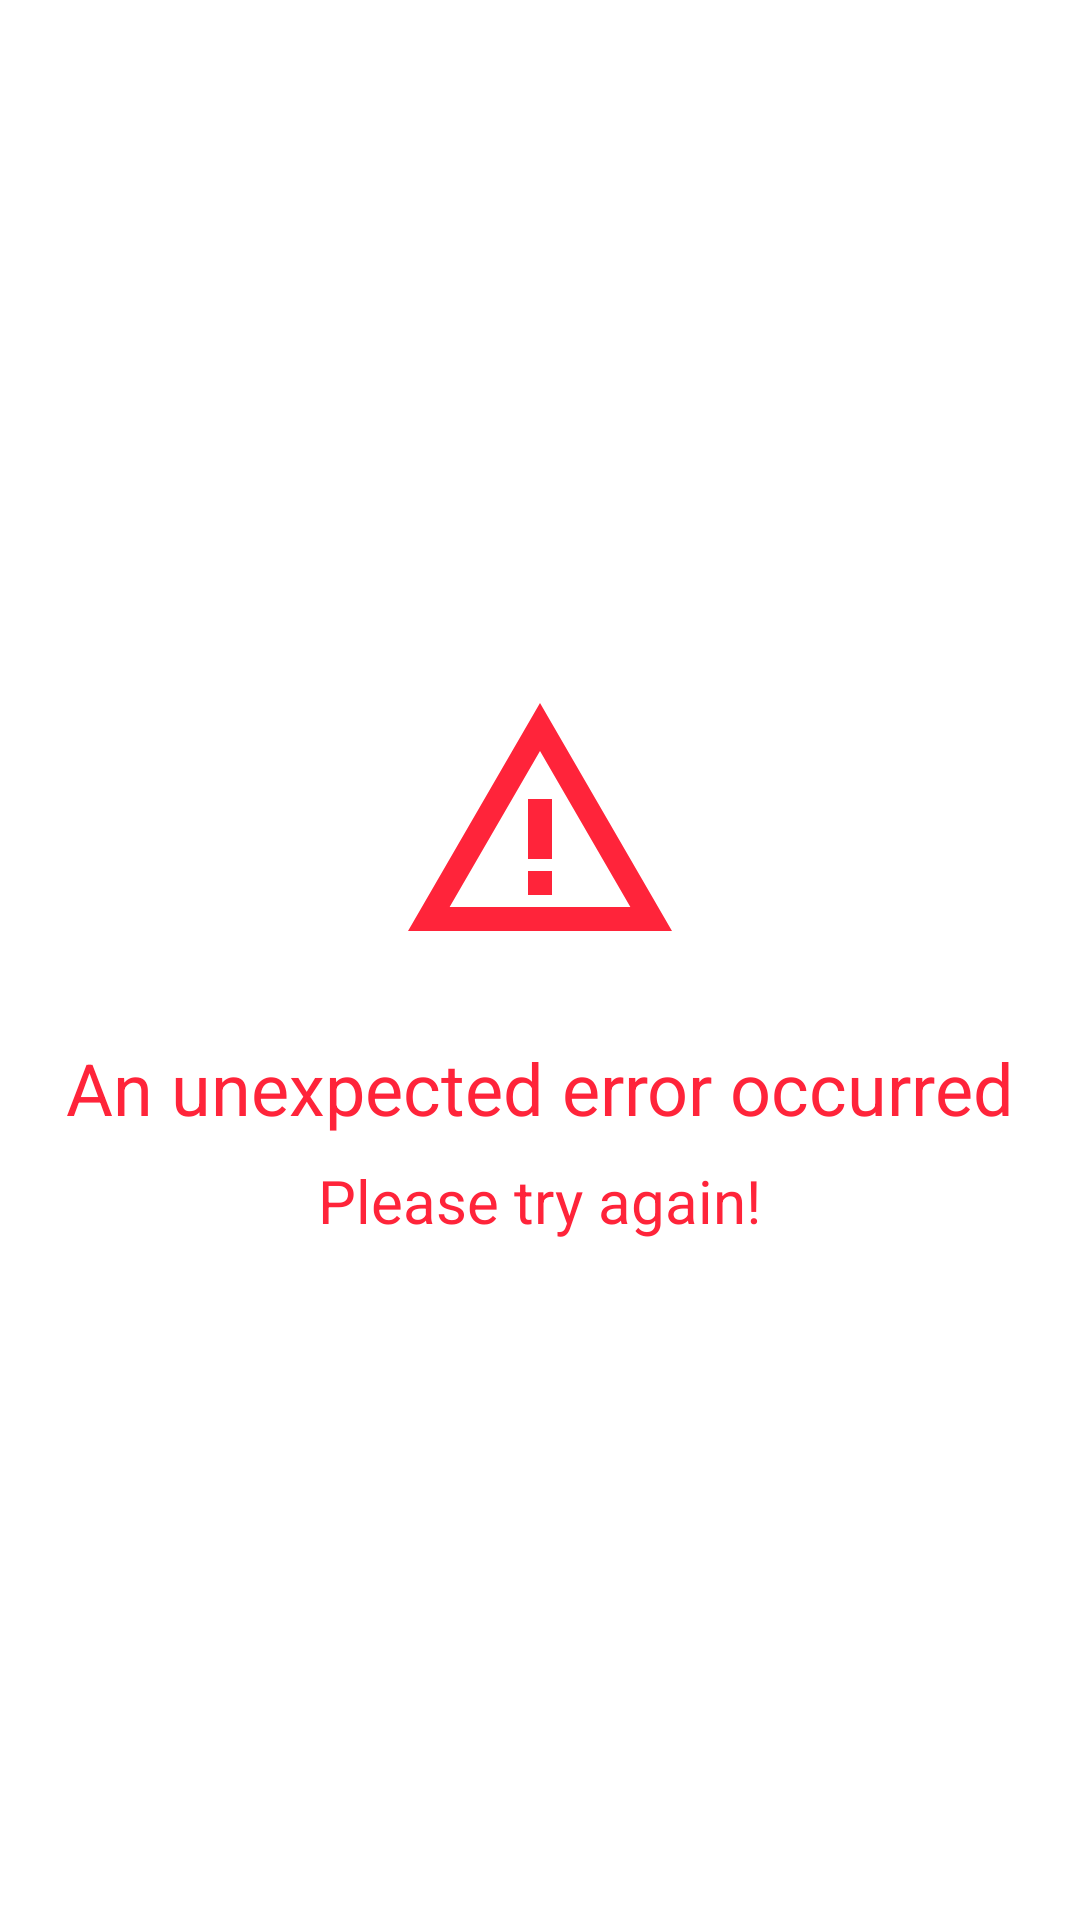

Screen size 1080px x 1920px. Icon name, then its center in pixels as (x,y):
warning: (540,817)
